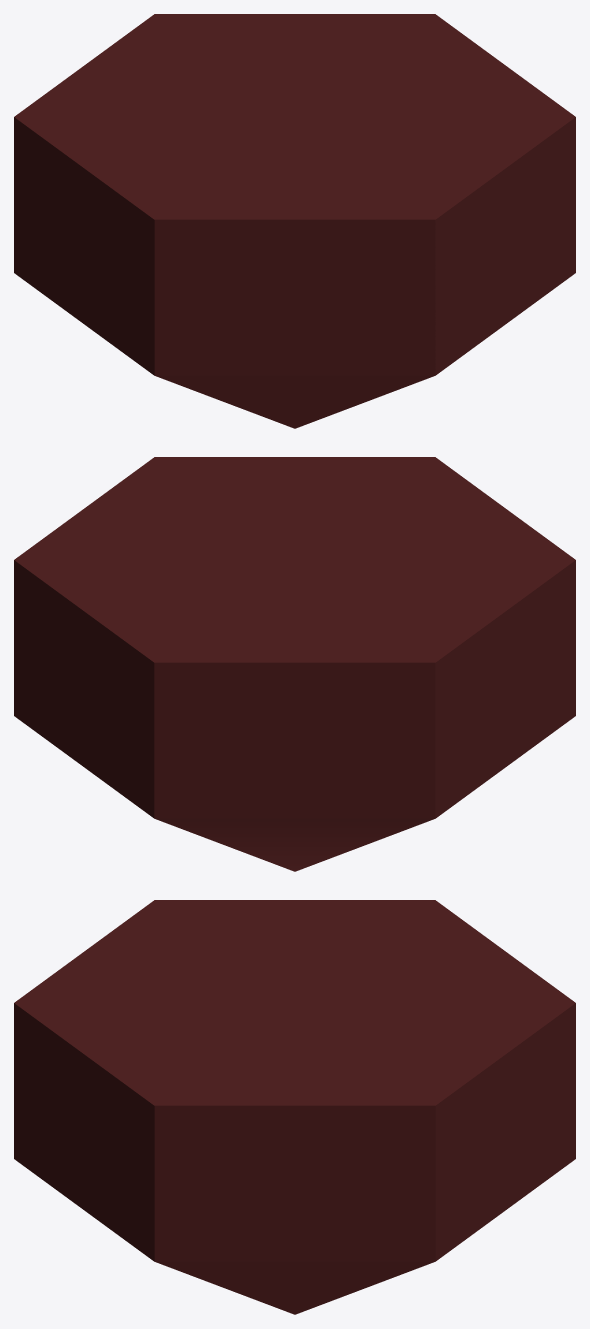
3 views of the same model, one above another, from view 1: azimuth 30°, elevation 25°; view 2: azimuth 150°, elevation 25°; view 3: azimuth 270°, elevation 25° (orthographic).
Parts seen in each view (by area): view 1: hex_block; view 2: hex_block; view 3: hex_block.
Boxes of the visible parts, left/top/right/bottom form: hex_block: left=14, top=14, right=575, bottom=428; hex_block: left=14, top=457, right=575, bottom=871; hex_block: left=14, top=900, right=575, bottom=1314.
Bounding box in the file's own units: 0.866 × 0.6124 × 1.
